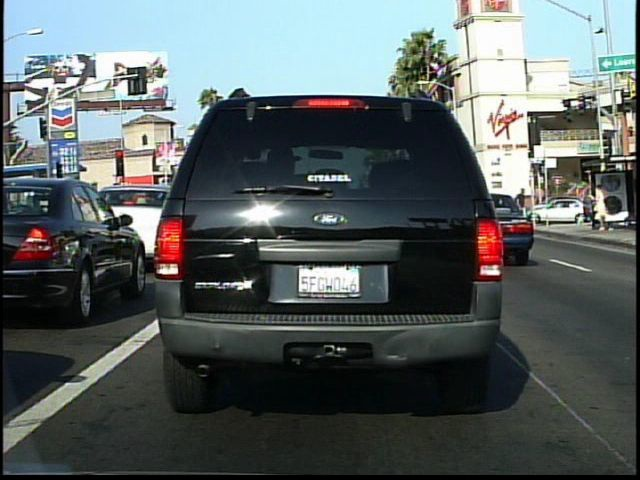person: (589, 177, 614, 234), (515, 183, 530, 209)
